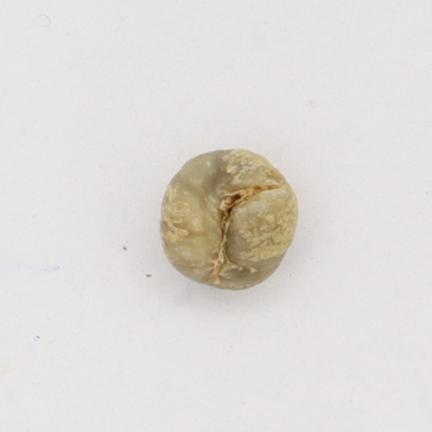immature: (160, 149, 297, 289)
